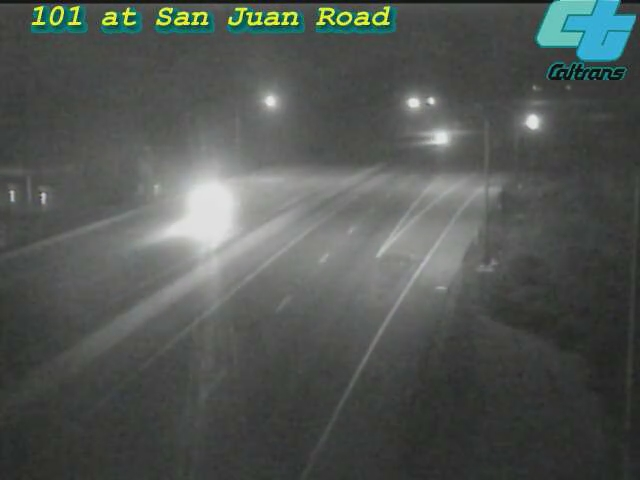vehicle: (160, 165, 240, 245), (416, 114, 466, 164), (508, 97, 558, 147)
